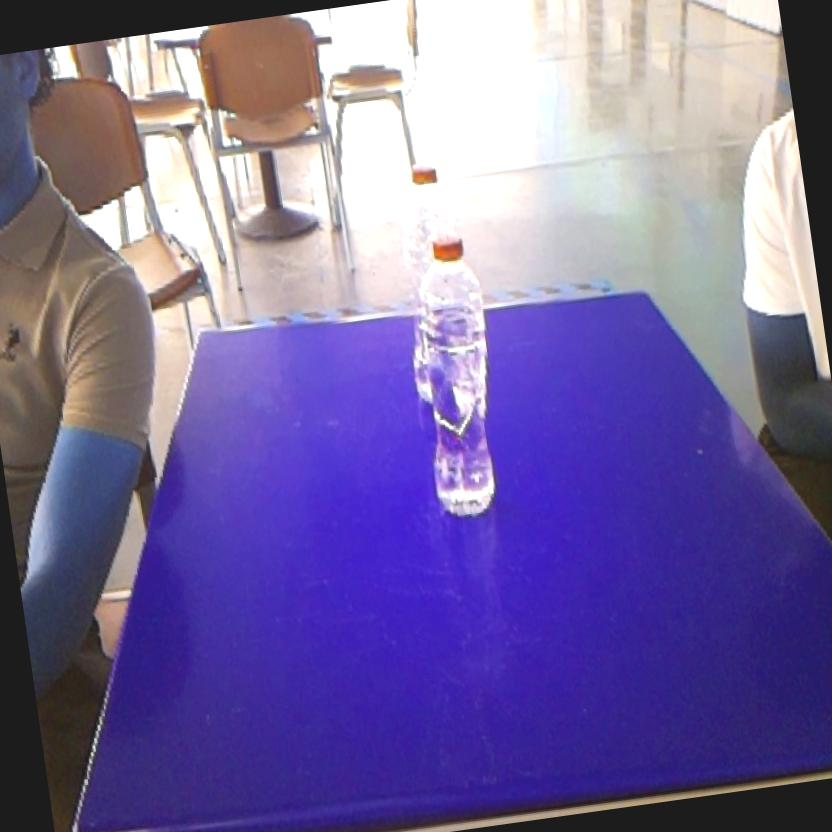no_label: (393, 227, 527, 532), (385, 142, 466, 246)
